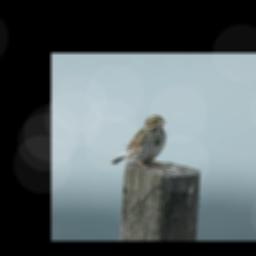Sparrow: (110, 114, 169, 169)
